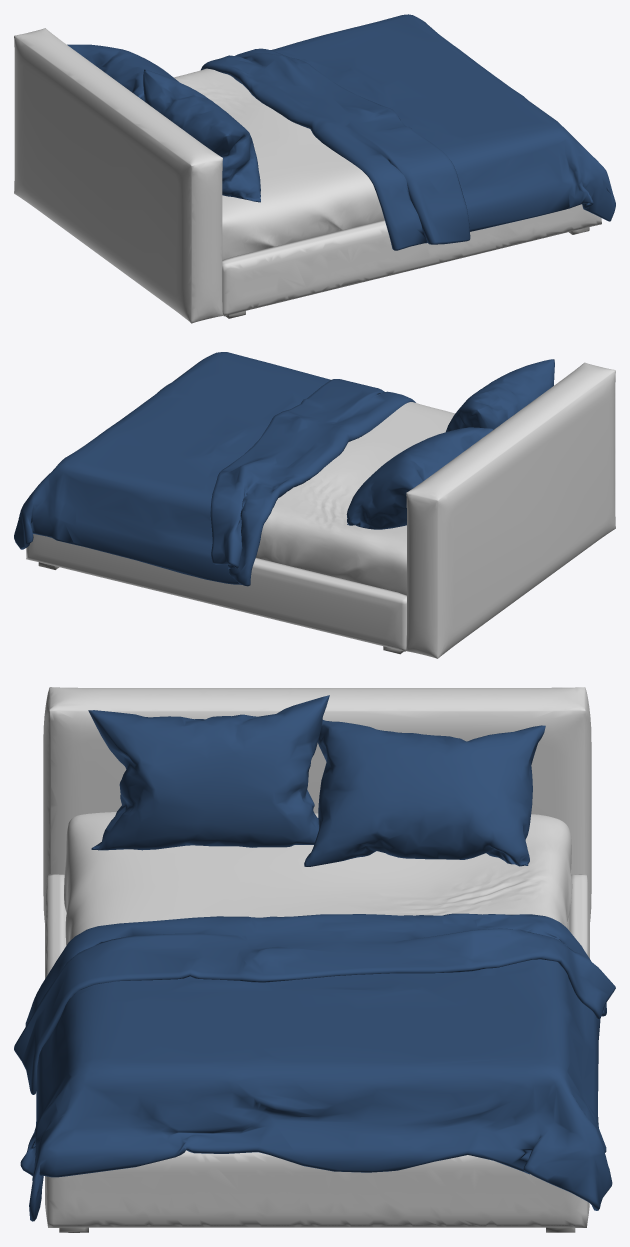
Rendered from bed.glb.
3 views of the same model, one above another, from view 1: azimuth 30°, elevation 25°; view 2: azimuth 150°, elevation 25°; view 3: azimuth 270°, elevation 25° (orthographic). The views are drawn at different scales.
Visible parts, largest first — view 1: Plane, Cube_Cube.002, Cube.004_Cube.006, Cube.001_Cube, Plane.001_Plane.002, Plane.002_Plane.003; view 2: Plane, Cube_Cube.002, Cube.004_Cube.006, Cube.001_Cube, Plane.002_Plane.003, Plane.001_Plane.002; view 3: Plane, Cube.001_Cube, Cube.004_Cube.006, Cube_Cube.002, Plane.001_Plane.002, Plane.002_Plane.003.
Part boxes in pixels (bbox=[...]): Plane: bbox=[201, 14, 615, 250]; Cube_Cube.002: bbox=[14, 28, 222, 323]; Cube.004_Cube.006: bbox=[174, 68, 384, 260]; Cube.001_Cube: bbox=[222, 204, 601, 316]; Plane.001_Plane.002: bbox=[143, 69, 260, 202]; Plane.002_Plane.003: bbox=[67, 44, 178, 101]; Plane: bbox=[14, 352, 415, 586]; Cube_Cube.002: bbox=[406, 362, 615, 658]; Cube.004_Cube.006: bbox=[256, 402, 455, 595]; Cube.001_Cube: bbox=[26, 534, 406, 651]; Plane.002_Plane.003: bbox=[346, 427, 493, 529]; Plane.001_Plane.002: bbox=[446, 359, 554, 431]; Plane: bbox=[14, 913, 615, 1221]; Cube.001_Cube: bbox=[45, 874, 589, 1227]; Cube.004_Cube.006: bbox=[64, 812, 572, 945]; Cube_Cube.002: bbox=[43, 687, 591, 922]; Plane.001_Plane.002: bbox=[88, 695, 329, 850]; Plane.002_Plane.003: bbox=[304, 720, 545, 866].
Size of the model in its own units: 2.47 by 1.02 by 2.01.
